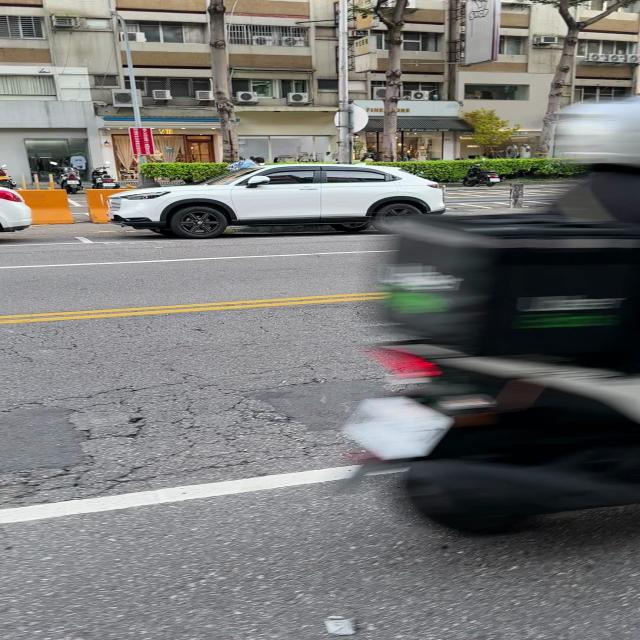car: (108, 164, 443, 238), (0, 186, 33, 232)
motocycle: (344, 344, 640, 532)
